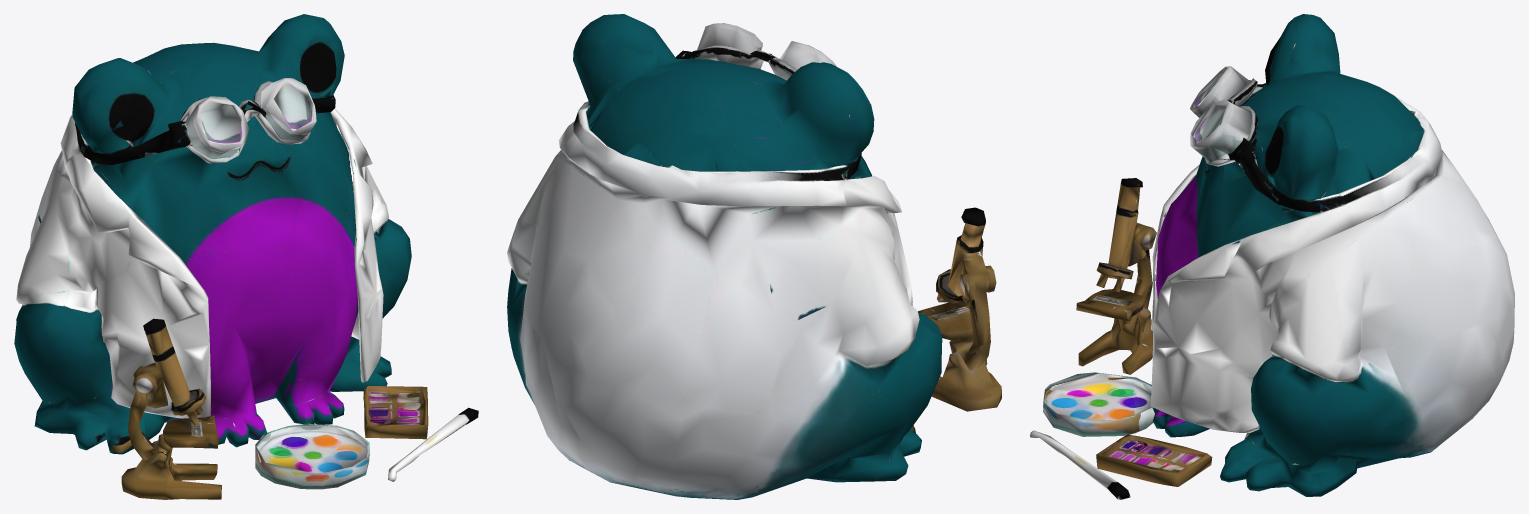
Rendered from scientifique.glb.
3 renders of one model, left to right at view 1: azimuth 30°, elevation 25°; view 2: azimuth 150°, elevation 25°; view 3: azimuth 270°, elevation 25°, orthographic. The views are drawn at different scales.
Visible parts, largest first — view 1: mesh_node; view 2: mesh_node; view 3: mesh_node.
Boxes of the visible parts, x1,y1,x2,y2 form: mesh_node: (14,14,478,499); mesh_node: (507,14,1001,499); mesh_node: (1030,14,1514,499).
Bounding box in the file's own units: 1.71 × 1.52 × 1.9.
Materials: 1 (1 with a texture image).
